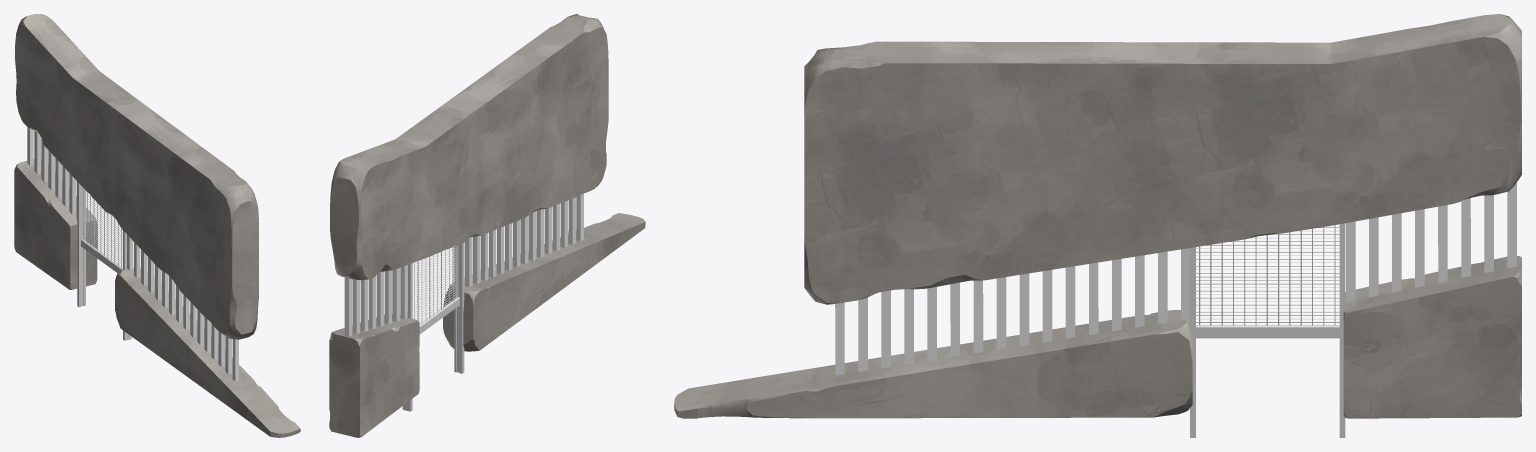
The model's file is MESH_TutorialLevelWall.fbx.
3 renders of one model, left to right at view 1: azimuth 30°, elevation 25°; view 2: azimuth 150°, elevation 25°; view 3: azimuth 270°, elevation 25°, orthographic. The views are drawn at different scales.
Parts seen in each view (by area): view 1: Cube.012_dmg, Cube.008; view 2: Cube.012_dmg, Cube.008; view 3: Cube.012_dmg, Cube.008.
Part boxes in pixels (x1,y1,x2,y2): Cube.012_dmg: [14, 14, 300, 437]; Cube.008: [77, 182, 131, 340]; Cube.012_dmg: [329, 14, 645, 437]; Cube.008: [402, 243, 464, 411]; Cube.012_dmg: [674, 14, 1521, 418]; Cube.008: [1190, 223, 1345, 437].
Bounding box in the file's own units: 120 × 971 × 1800.
